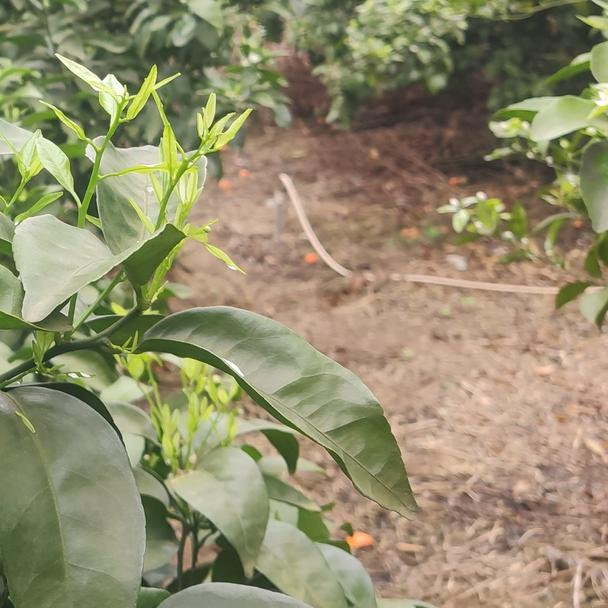shoot: (45, 51, 172, 243), (155, 96, 250, 227)
